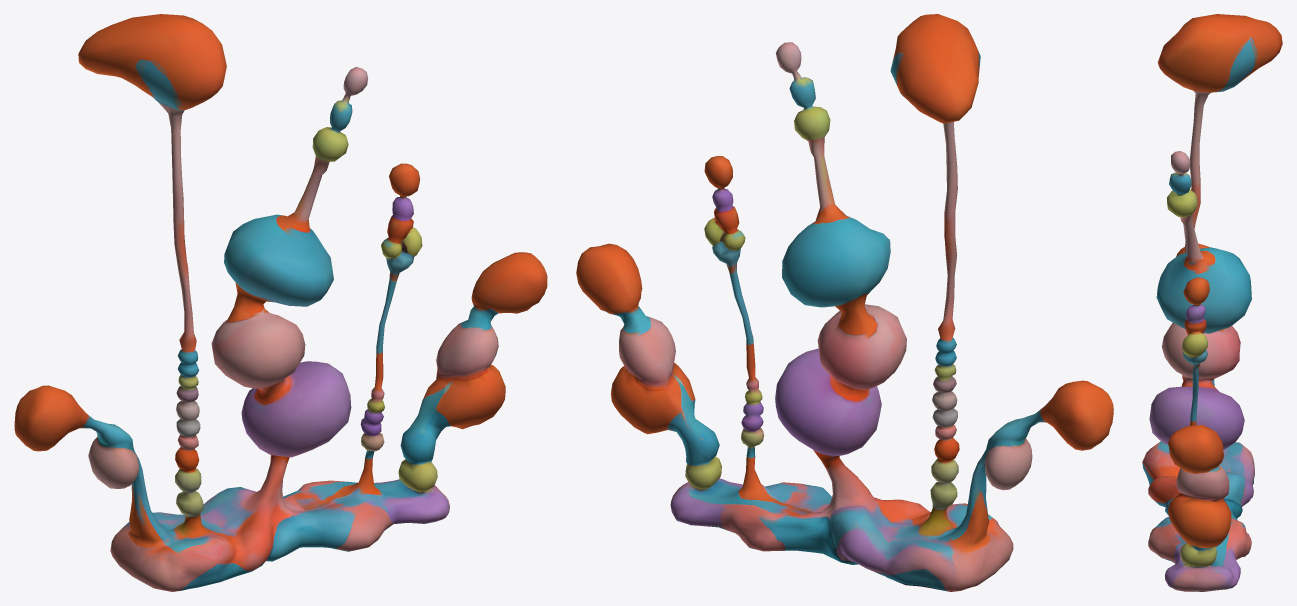
The model's file is ac3c7a8c-f700-4c83-bafc-381817f4e4cf.glb.
3 views of the same model, side by side, from view 1: azimuth 30°, elevation 25°; view 2: azimuth 150°, elevation 25°; view 3: azimuth 270°, elevation 25° (orthographic). The views are drawn at different scales.
Parts seen in each view (by area): view 1: tripo_node_9c098e16-da5e-49dd-b4b2-836c5bae828e; view 2: tripo_node_9c098e16-da5e-49dd-b4b2-836c5bae828e; view 3: tripo_node_9c098e16-da5e-49dd-b4b2-836c5bae828e.
Boxes of the visible parts, <box> form: tripo_node_9c098e16-da5e-49dd-b4b2-836c5bae828e: <box>14,14,547,591</box>; tripo_node_9c098e16-da5e-49dd-b4b2-836c5bae828e: <box>576,14,1113,591</box>; tripo_node_9c098e16-da5e-49dd-b4b2-836c5bae828e: <box>1142,14,1282,591</box>.
Bounding box in the file's own units: 0.9883 × 0.998 × 0.2681.
1 material, 1 textured.
